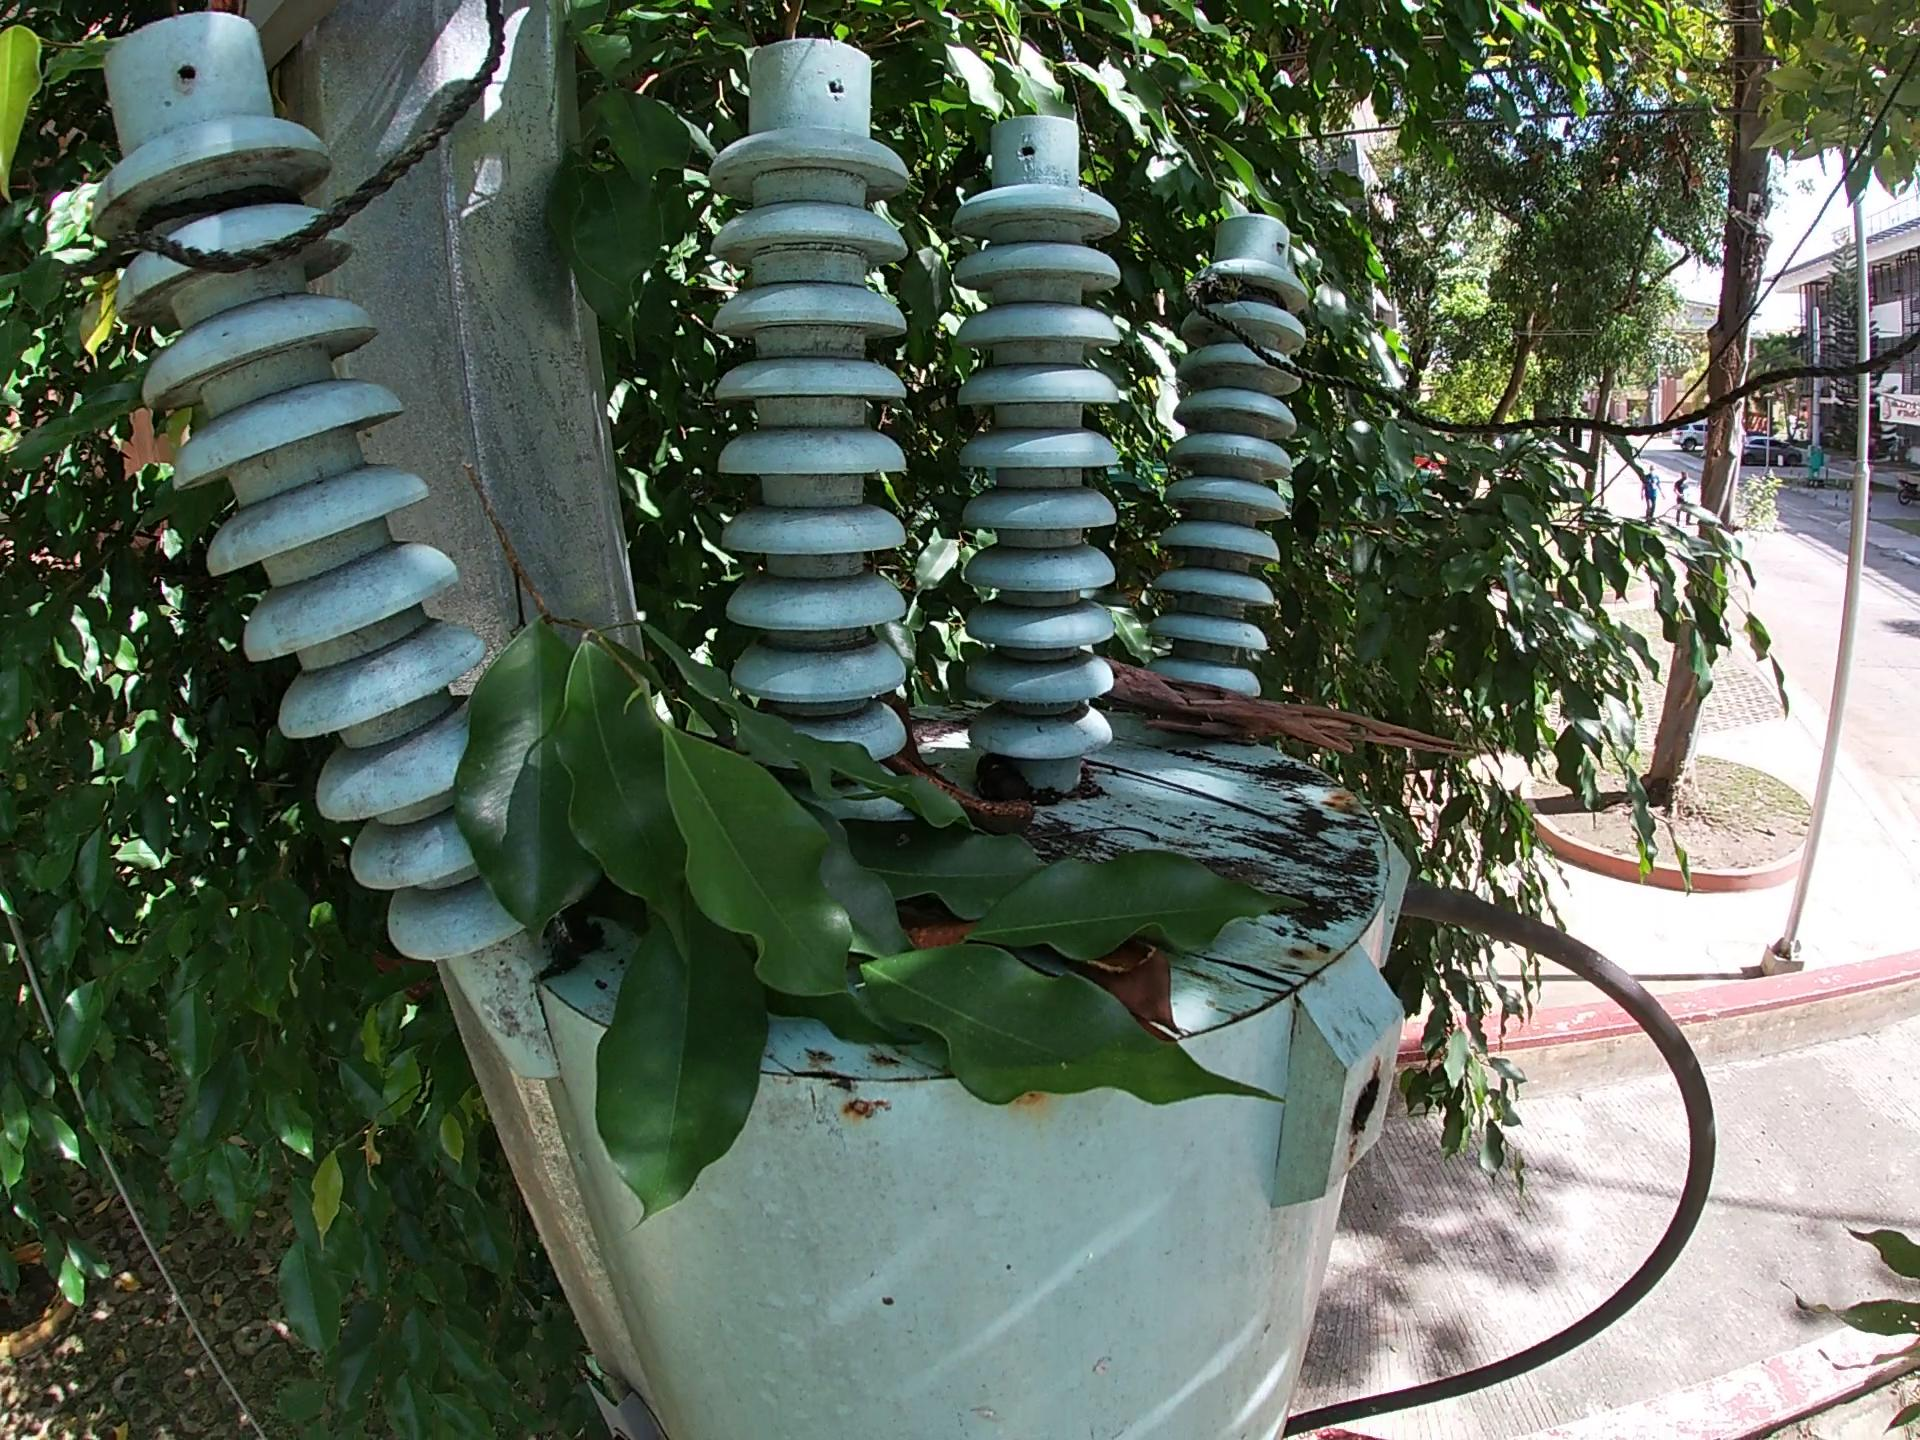branch with leaves: (419, 414, 1386, 1216)
mahogany fruit: (1042, 938, 1212, 1023), (898, 718, 1034, 821), (909, 892, 998, 950)
tree branch: (1101, 634, 1485, 782), (1079, 750, 1355, 867)
